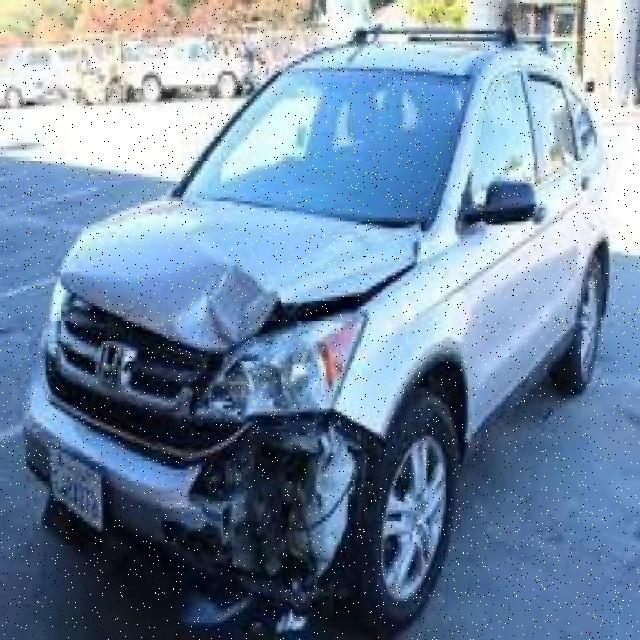damage: (164, 224, 413, 617)
